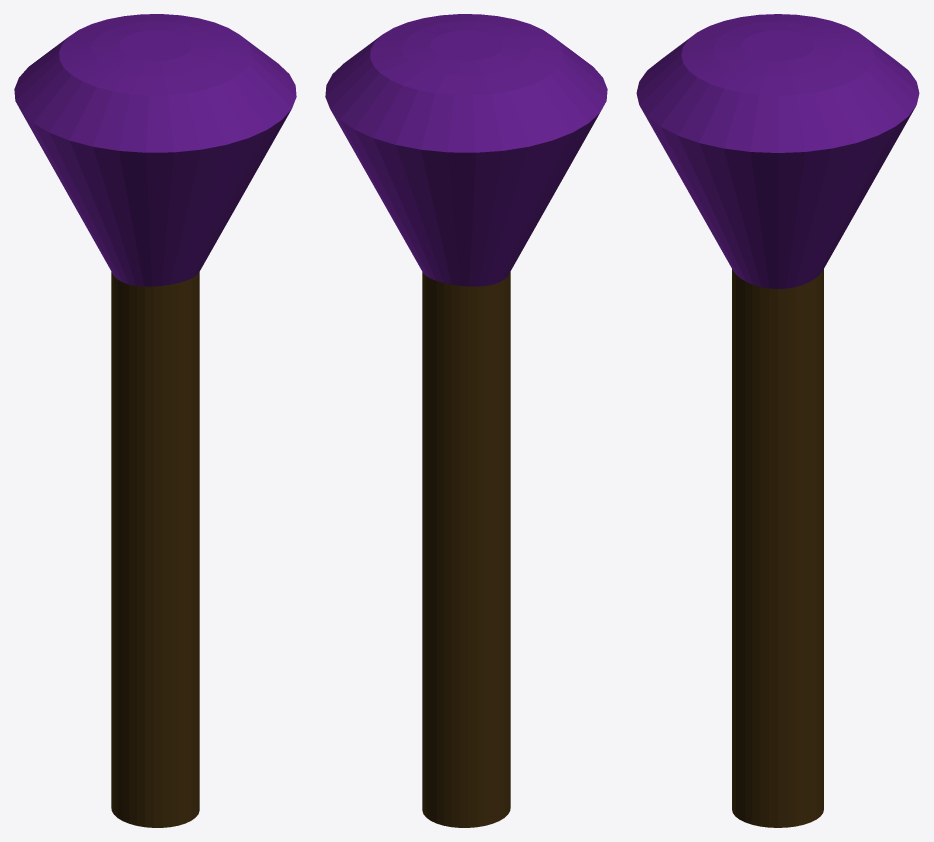
Rendered from WandPurple.fbx.
3 renders of one model, left to right at view 1: azimuth 30°, elevation 25°; view 2: azimuth 150°, elevation 25°; view 3: azimuth 270°, elevation 25°, orthographic.
Parts seen in each view (by area): view 1: Gem, Stick; view 2: Gem, Stick; view 3: Gem, Stick.
Boxes of the visible parts, bbox=[...] form: Gem: bbox=[14, 14, 296, 286]; Stick: bbox=[111, 272, 199, 827]; Gem: bbox=[325, 14, 607, 286]; Stick: bbox=[422, 272, 510, 827]; Gem: bbox=[636, 14, 919, 288]; Stick: bbox=[732, 269, 823, 827].
Bounding box in the file's own units: 4.5 × 13.39 × 4.5.
